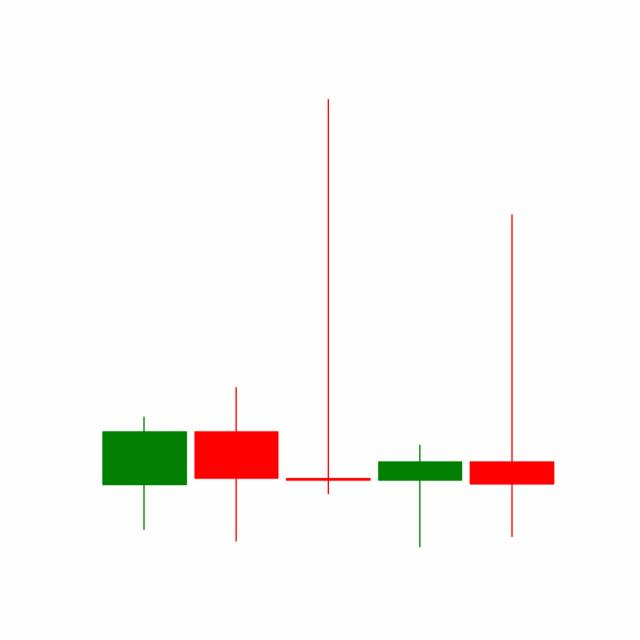Hammer: (373, 443, 467, 549)
